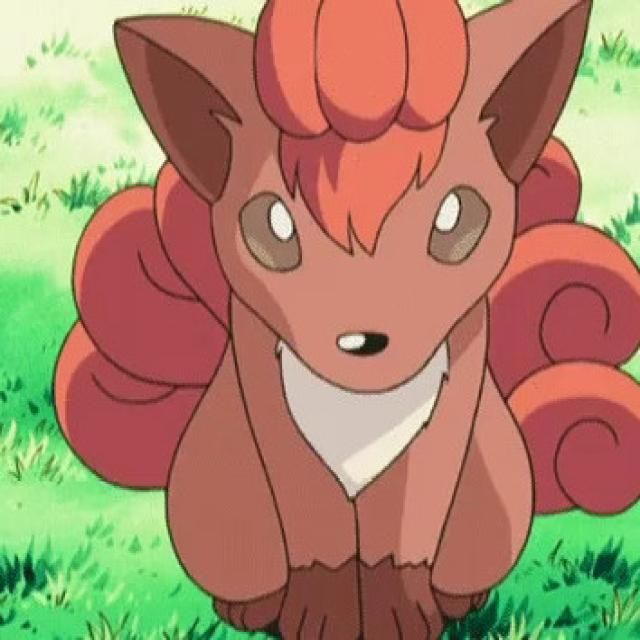Vulpix: (107, 12, 640, 640)
